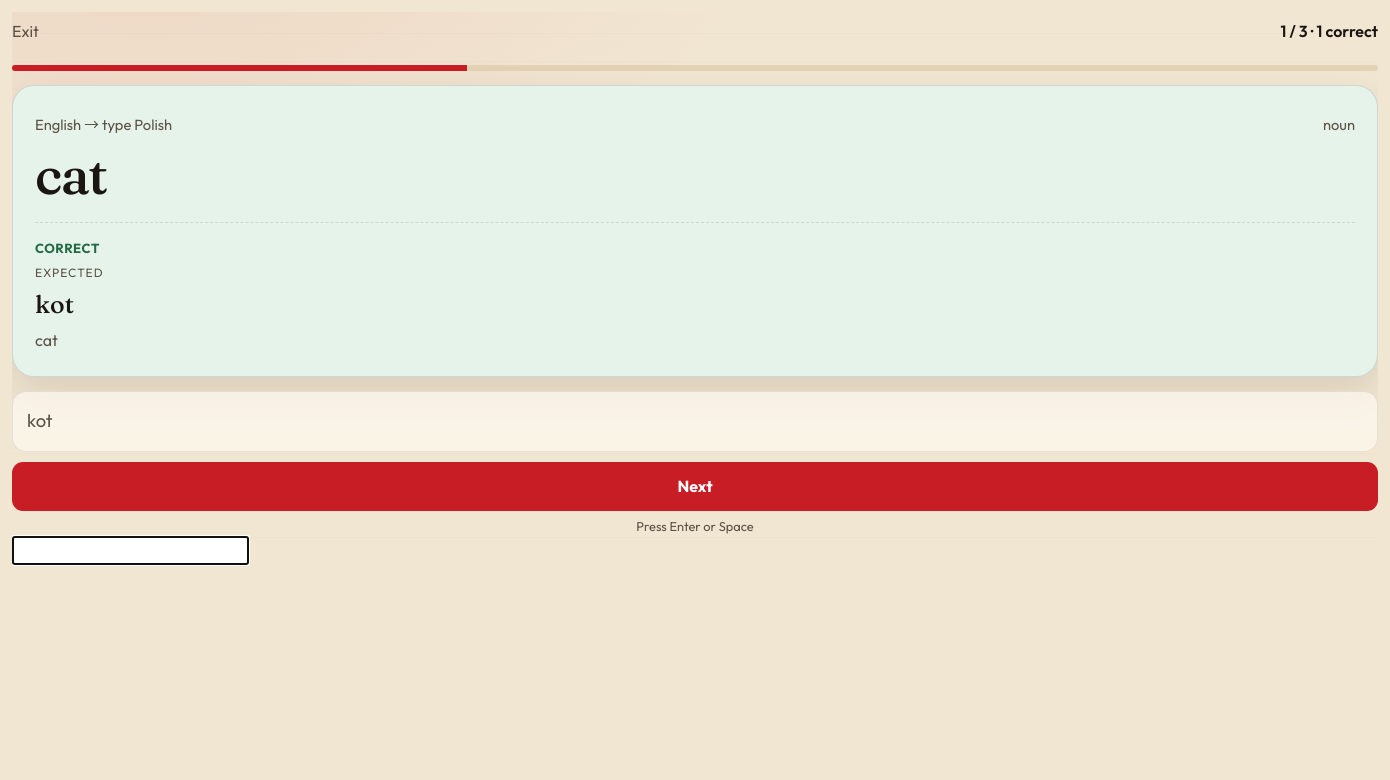
it: Session advance shortcut › does not take keys from another text field or double-activate buttons
Earlier steps of the test are not shown.
Later steps or results of the test are not shown.
Press Enter in the field named "Add a word", box [12,536,249,565]
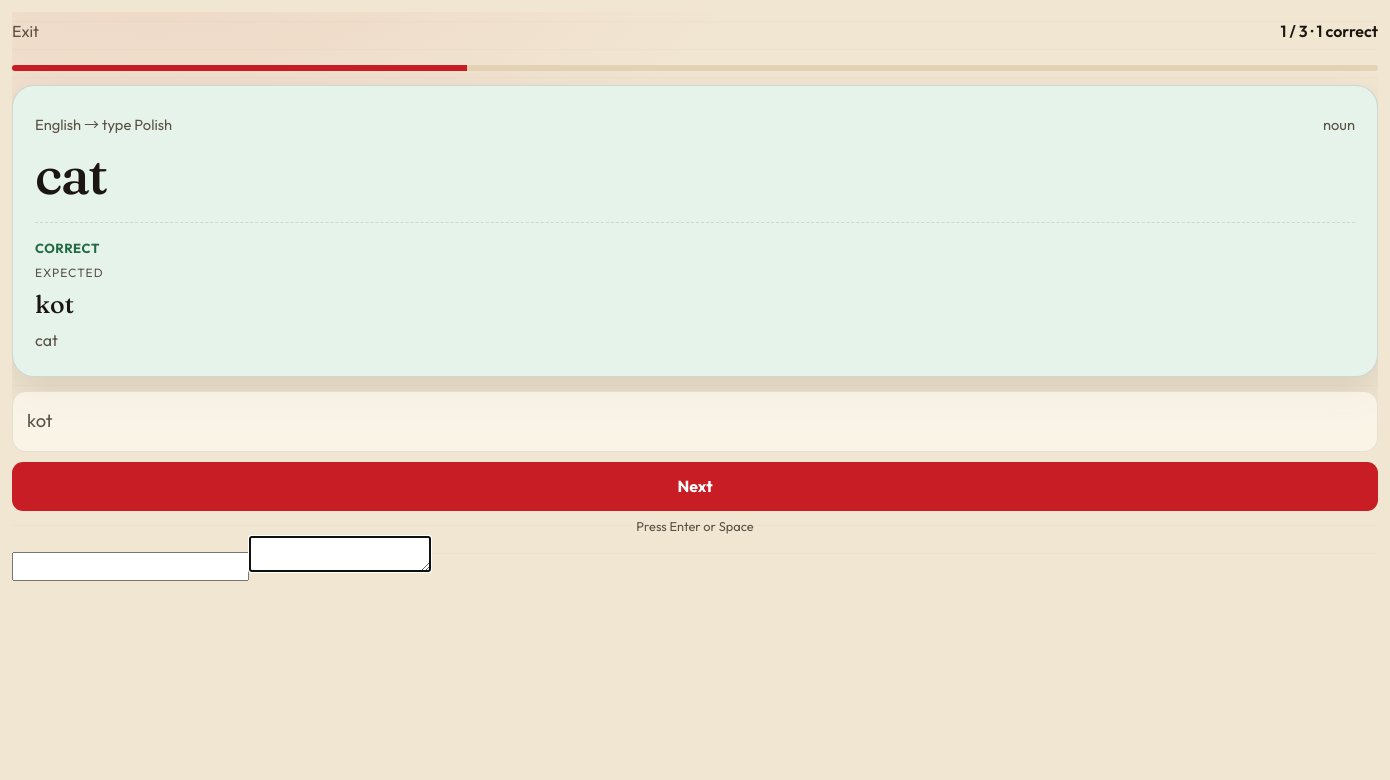
Check: the 1st text "cat" is shown, box [35,142,106,206]
Press Enter in the text box, box [249,536,431,572]
Press Space in the text box, box [249,536,431,572]
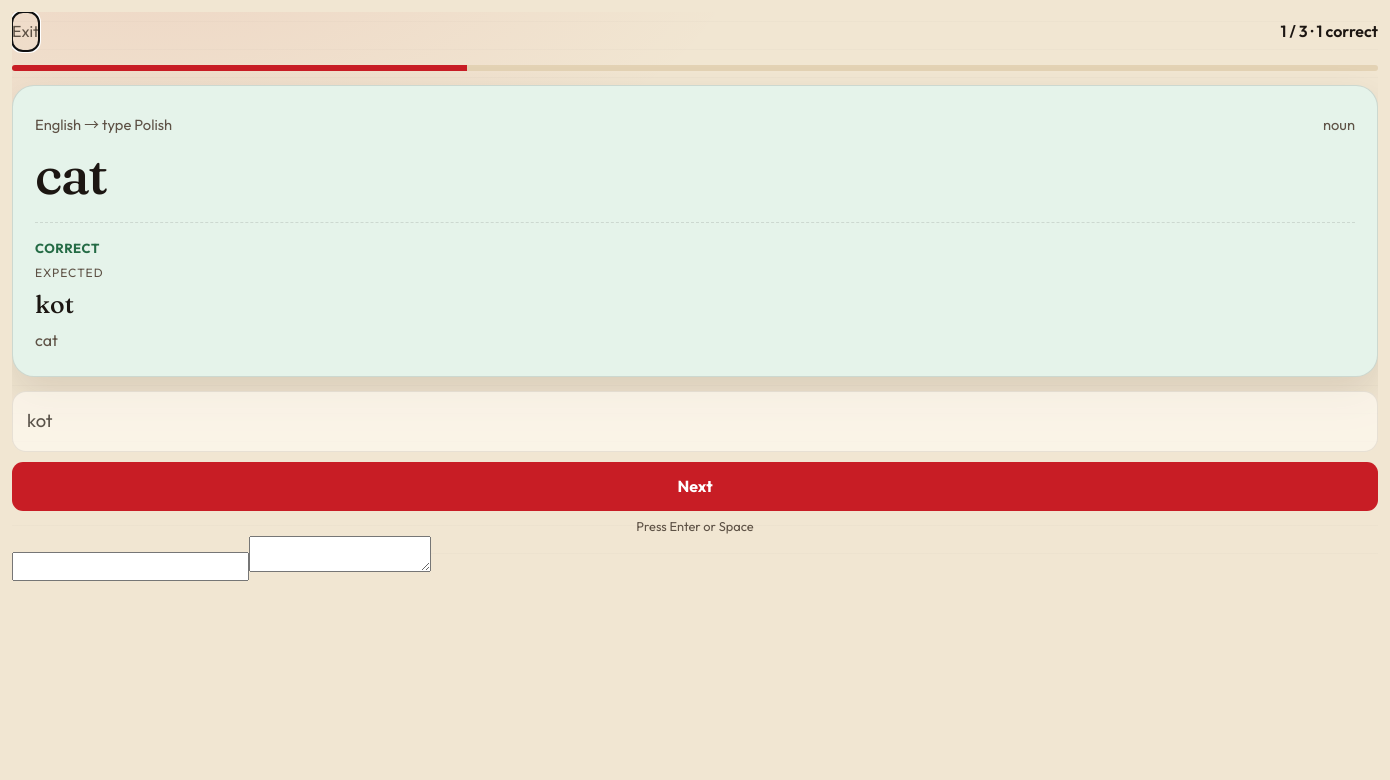
Check: the 1st text "cat" is shown, box [35,142,106,206]
Press Enter in the button "Exit", box [12,12,39,51]
Check: the 1st text "cat" is shown, box [35,142,106,206]
Press Enter in the button "Exit", box [12,12,39,51]
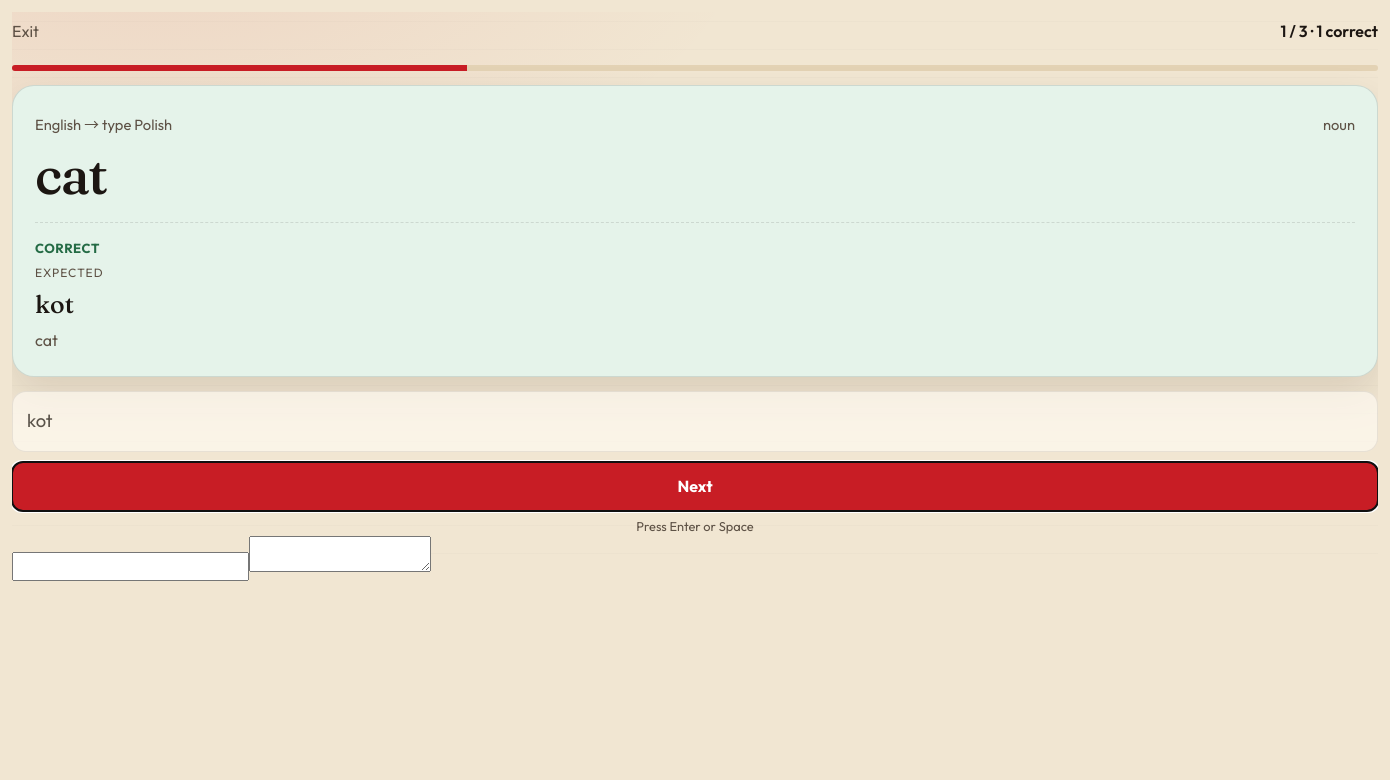
Press Enter in the button "Next", box [12,462,1378,511]
Check: the 1st text "cat" is shown, box [35,142,106,206]
Press Enter in the button "Next", box [12,462,1378,511]
Click the button "Next" at (695, 486), box [12,462,1378,511]
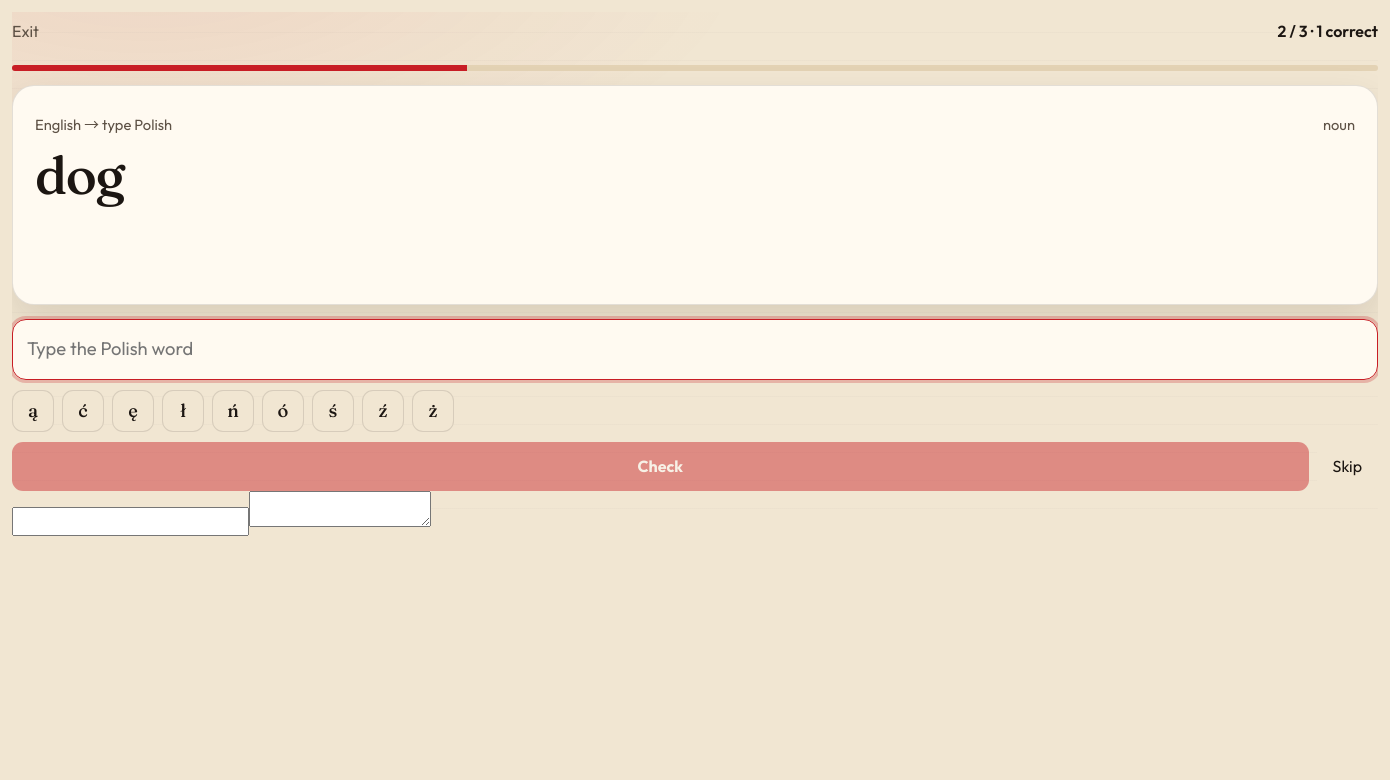
Check: the text "dog" is shown, box [35,142,124,206]
